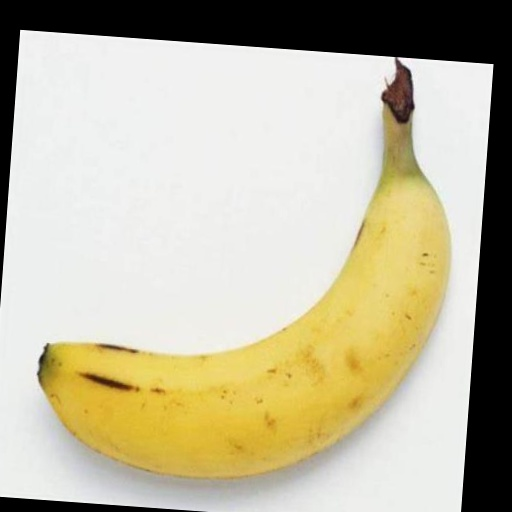fruit: (39, 61, 450, 477)
